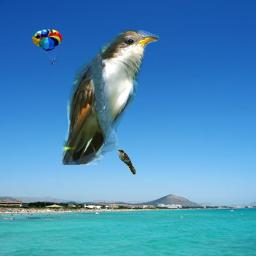Cuckoo: (62, 30, 159, 165), (117, 149, 136, 175)
